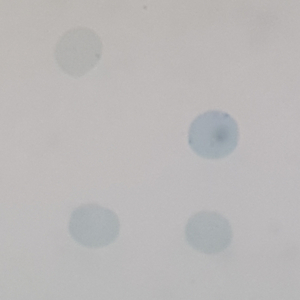erythrocyte: (53, 25, 106, 80), (66, 201, 121, 250), (183, 209, 235, 256)
punctate reticulocyte: (186, 108, 240, 161)
